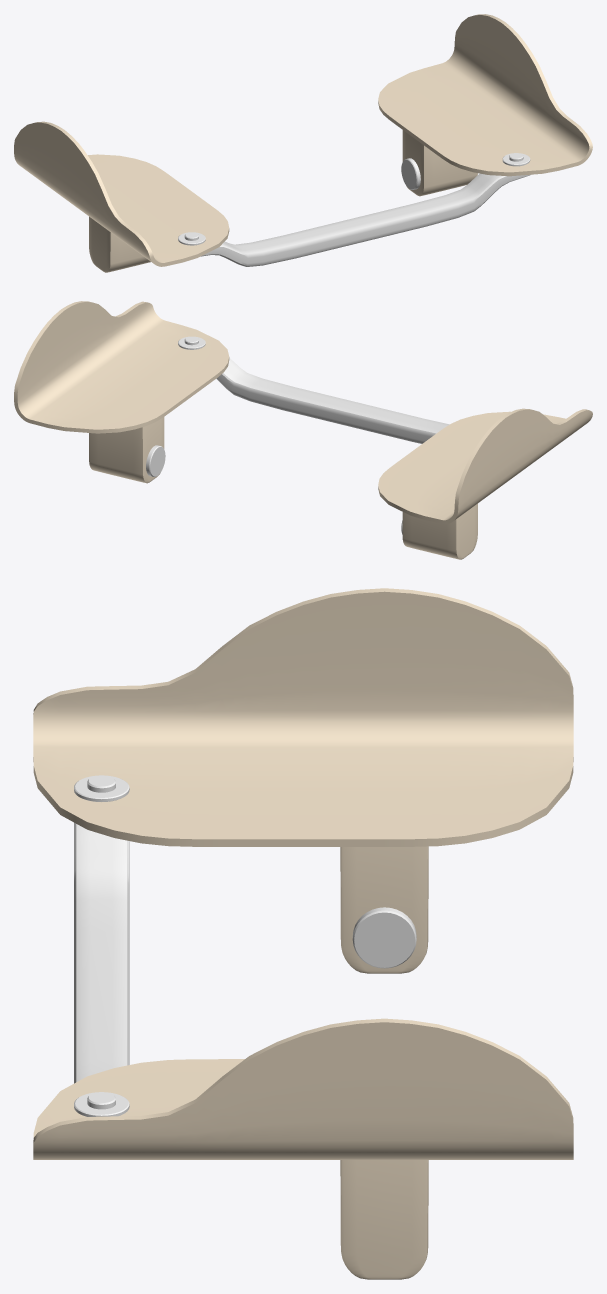
Rendered from wheel_bar.glb.
3 views of the same model, one above another, from view 1: azimuth 30°, elevation 25°; view 2: azimuth 150°, elevation 25°; view 3: azimuth 270°, elevation 25° (orthographic). The views are drawn at different scales.
Visible parts, largest first — view 1: wheel_bar; view 2: wheel_bar; view 3: wheel_bar.
Boxes of the visible parts, x1,y1,x2,y2 form: wheel_bar: (14,14,592,272); wheel_bar: (14,301,592,559); wheel_bar: (33,588,573,1279).
Size of the model in its own units: 0.3344 by 0.1063 by 0.176.
